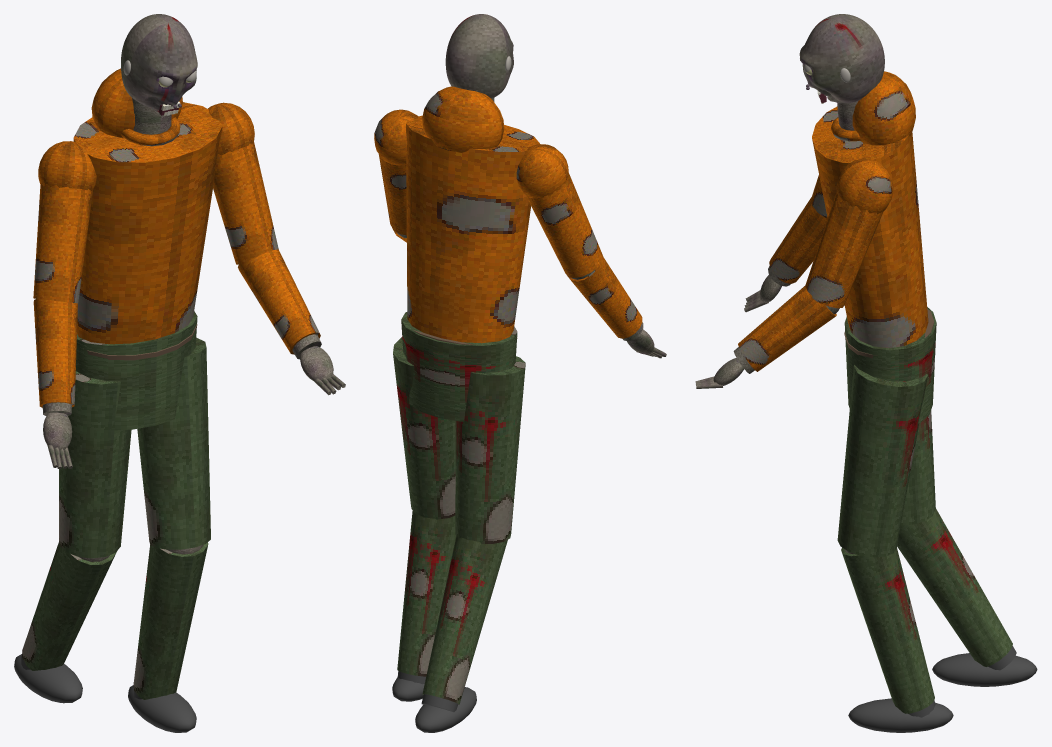
Rendered from Zombie_059.glb.
3 views of the same model, side by side, from view 1: azimuth 30°, elevation 25°; view 2: azimuth 150°, elevation 25°; view 3: azimuth 270°, elevation 25° (orthographic). The views are drawn at different scales.
Parts seen in each view (by area): view 1: Zombie_059, object 18, object 4, object 12, object 5, object 13; view 2: Zombie_059, object 18, object 4; view 3: Zombie_059, object 18, object 12, object 4.
Boxes of the visible parts, x1,y1,x2,y2 form: Zombie_059: (14,68,278,732); object 18: (121,14,197,111); object 4: (33,299,77,407); object 12: (238,249,320,354); object 5: (43,412,72,449); object 13: (300,346,333,381); Zombie_059: (374,86,603,732); object 18: (445,14,513,98); object 4: (567,257,642,338); Zombie_059: (805,71,1037,732); object 18: (799,14,884,103); object 12: (738,286,836,371); object 4: (769,197,827,283).
Size of the model in its own units: 0.7678 by 2.02 by 0.8944.
Materials: 15 (5 with a texture image).
